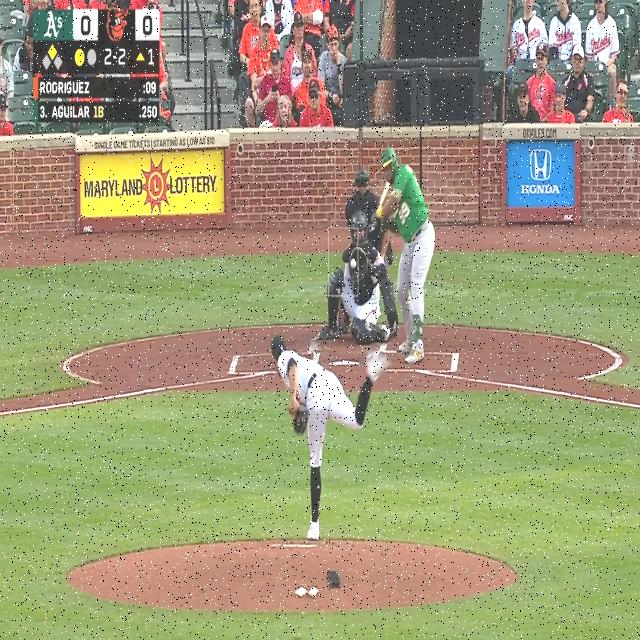baseball: (350, 258, 356, 270)
